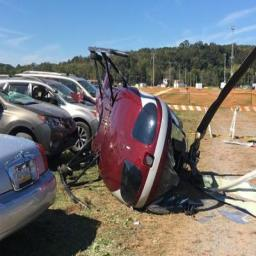helicopter: (60, 36, 256, 219)
